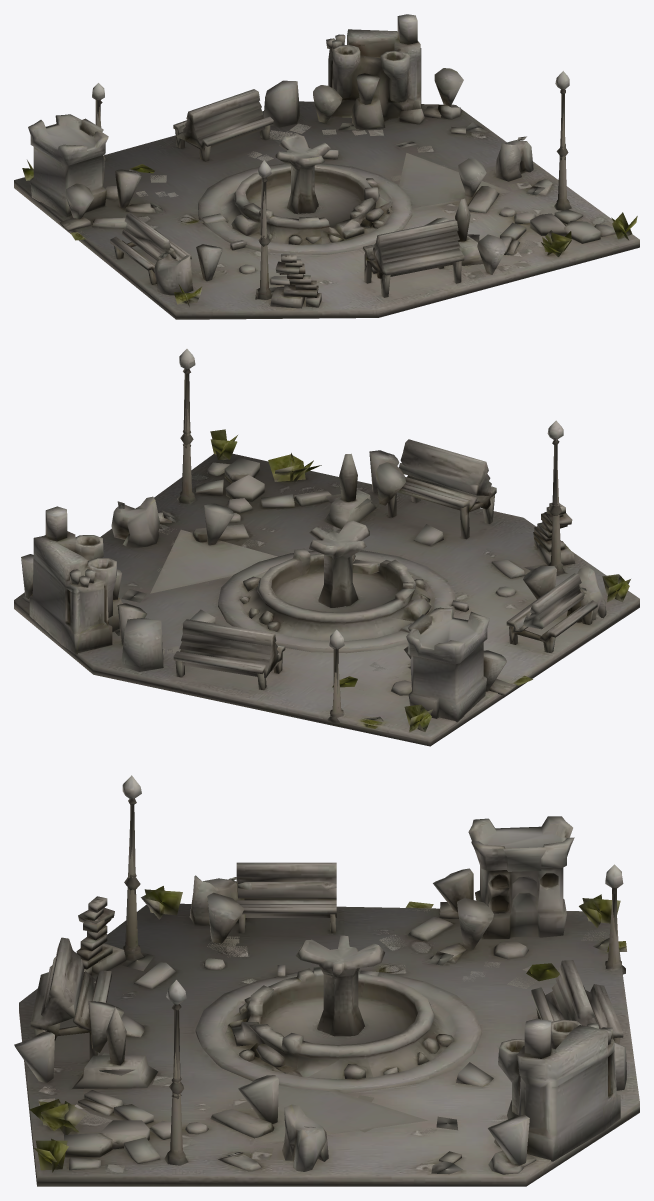
The model's file is abandoned_central_square.glb.
3 renders of one model, top to bottom at view 1: azimuth 30°, elevation 25°; view 2: azimuth 150°, elevation 25°; view 3: azimuth 270°, elevation 25°, orthographic. The views are drawn at different scales.
Parts seen in each view (by area): view 1: tripo_node_d9e34c02-5cae-4752-ae9c-e6804e2aa6f3; view 2: tripo_node_d9e34c02-5cae-4752-ae9c-e6804e2aa6f3; view 3: tripo_node_d9e34c02-5cae-4752-ae9c-e6804e2aa6f3.
Part boxes in pixels (left/top/right/bottom): tripo_node_d9e34c02-5cae-4752-ae9c-e6804e2aa6f3: left=14, top=14, right=639, bottom=319; tripo_node_d9e34c02-5cae-4752-ae9c-e6804e2aa6f3: left=14, top=349, right=639, bottom=746; tripo_node_d9e34c02-5cae-4752-ae9c-e6804e2aa6f3: left=14, top=775, right=639, bottom=1186.
Bounding box in the file's own units: 0.998 × 0.3223 × 0.9551.
1 material, 1 textured.
